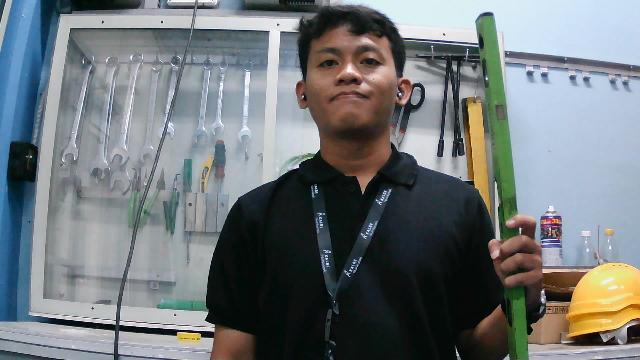water_pass: (467, 6, 540, 360)
